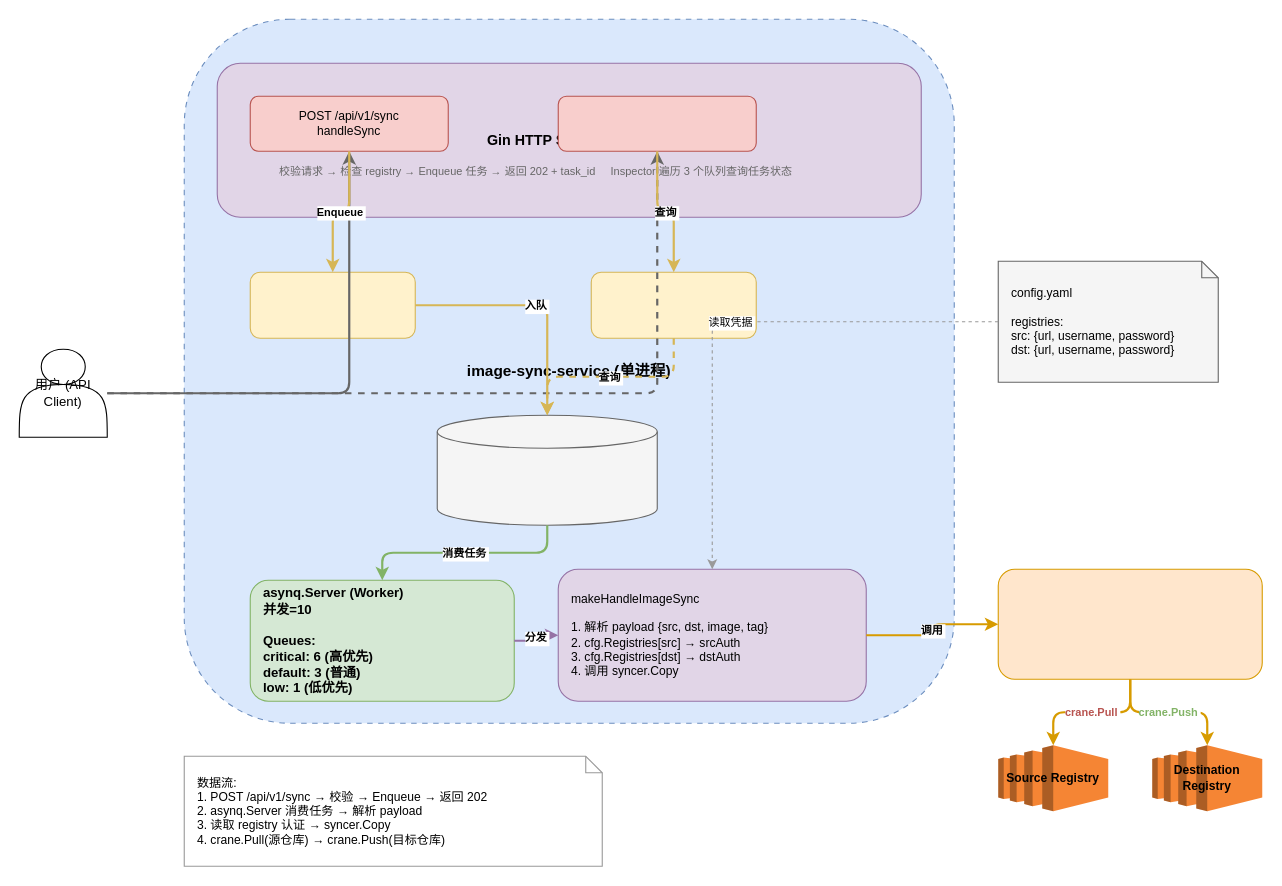
Image size: 1282x886. Some labels were removed from this diagram. The centre of each missing label's shape, as x and y in pixels:
"asynq.Client (入队)" goes at pixel 332 304.
"asynq.Inspector (状态查询)" goes at pixel 673 304.
"GET /api/v1/tasks/:id handleTaskStatus" goes at pixel 656 123.
"Redis asynq:{critical}:pending asynq:{default}:pending asynq:{low}:pending" goes at pixel 546 469.
"syncer.Copy crane.Pull(srcImage, srcAuth) ↓ crane.Push(img, dstImage, dstAuth)" goes at pixel 1129 623.
